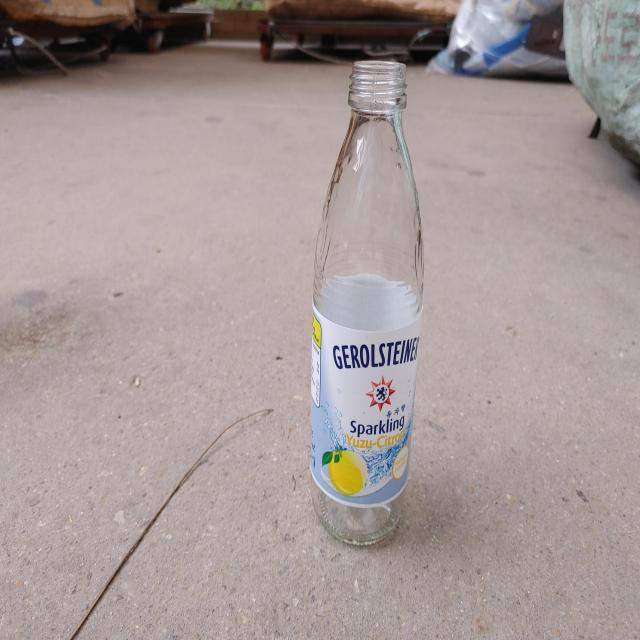glass: (310, 60, 424, 545)
